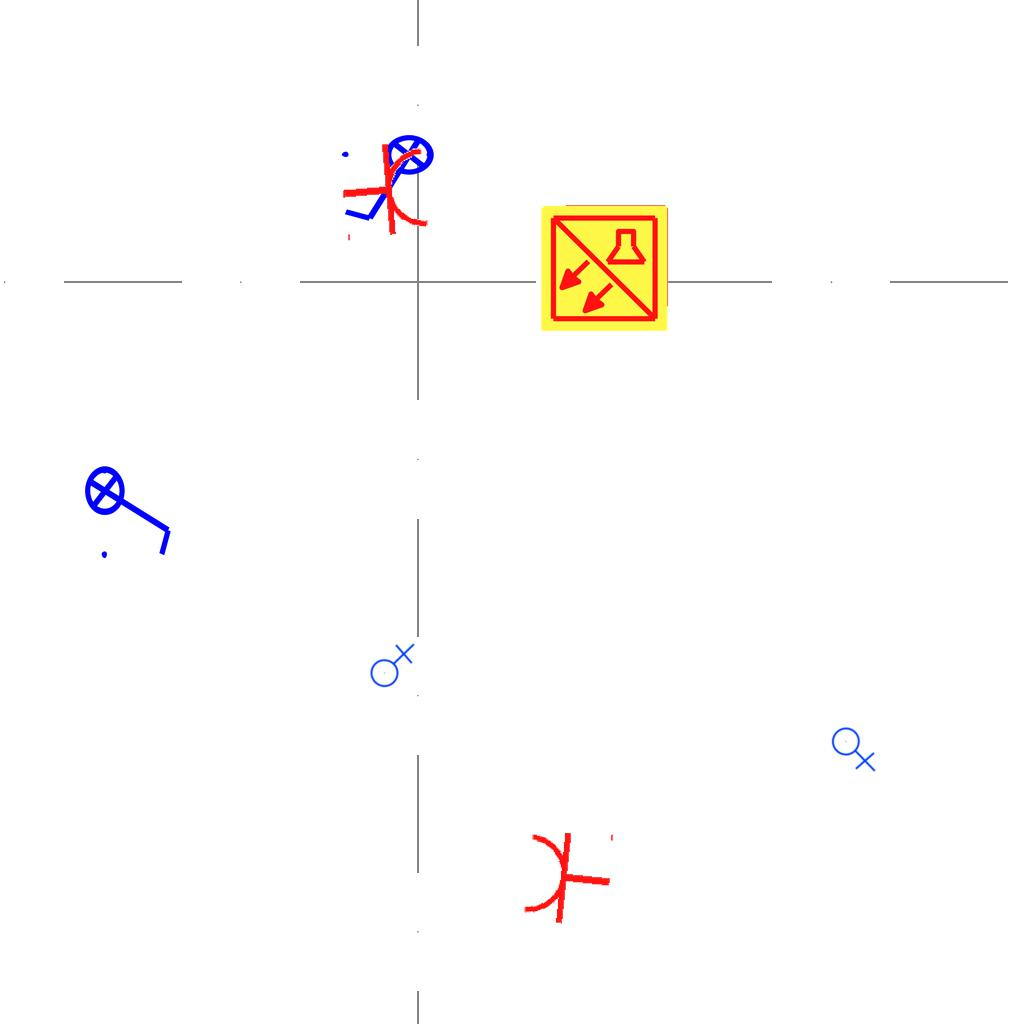Ausschalter_beleuchtet: (83, 452, 179, 564), (336, 133, 448, 229)
Elektroanschluss_allgemein_230V_Geraeteanschlussdose_230V: (366, 641, 415, 688), (831, 723, 878, 772)
OKW_Multisensormelder_(Kombination_optischer_Rauch-Kahlenmonoxid_Waerme-Melder): (538, 202, 670, 334)
Schukosteckdose_einfach: (520, 821, 617, 931), (336, 138, 433, 246)
